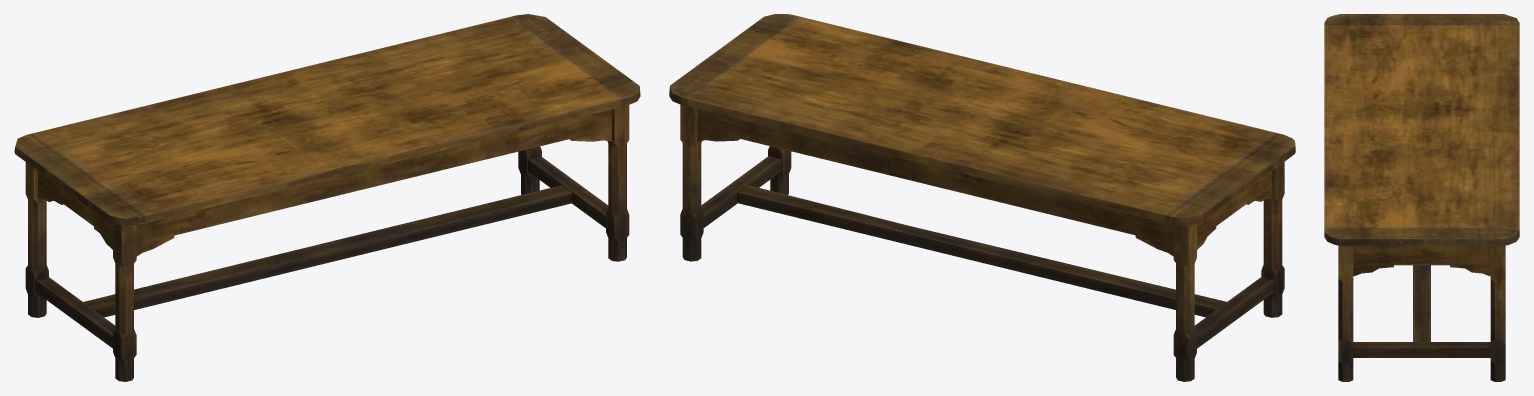
The model's file is wooden_table_01.glb.
The picture shows the model from 3 angles, left to right: view 1: azimuth 30°, elevation 25°; view 2: azimuth 150°, elevation 25°; view 3: azimuth 270°, elevation 25°; orthographic projection. The views are drawn at different scales.
Visible parts, largest first — view 1: mesh; view 2: mesh; view 3: mesh.
Part boxes in pixels (box(x1,y1,x2,y2)): mesh: box(14, 14, 640, 381); mesh: box(669, 14, 1295, 381); mesh: box(1324, 14, 1519, 381).
Size of the model in its own units: 1.79 by 0.5489 by 0.6571.
Materials: 1 (1 with a texture image).
